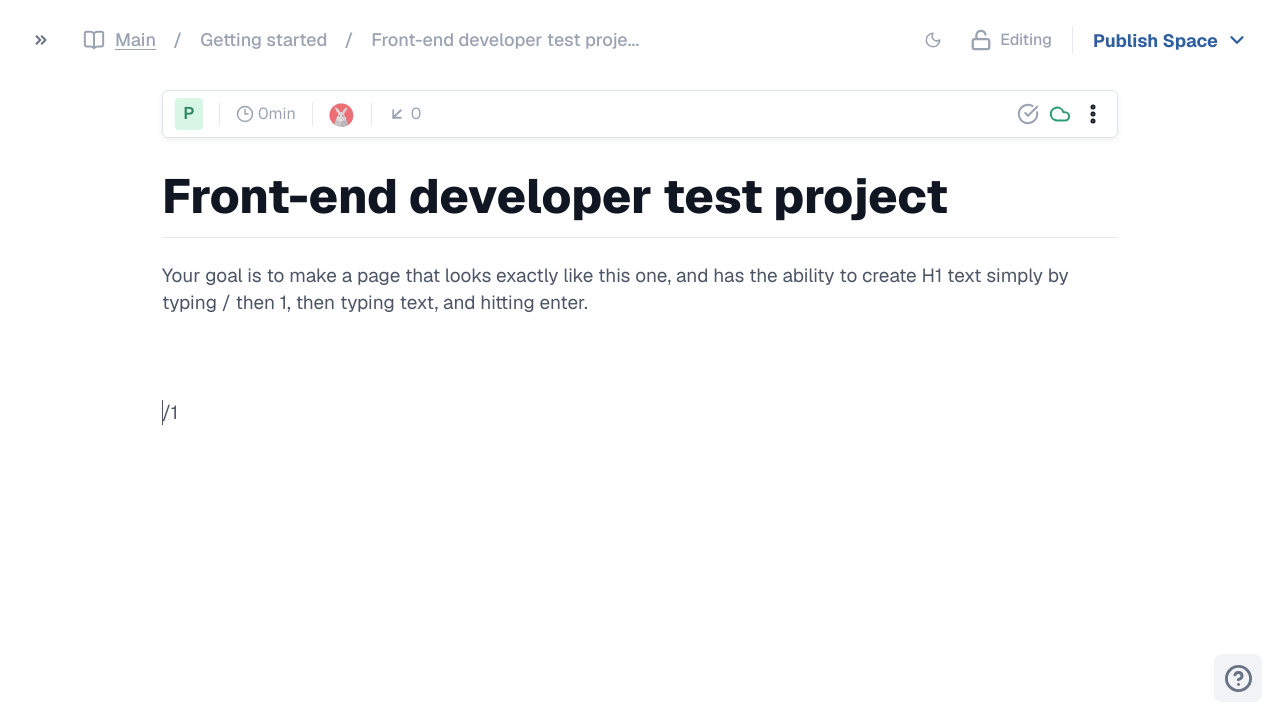
it: editor heading flow › updates editor state when native input replaces text
Step 1. Clear the field named "Paragraph block" → point(170, 412), box [162,400,178,425]
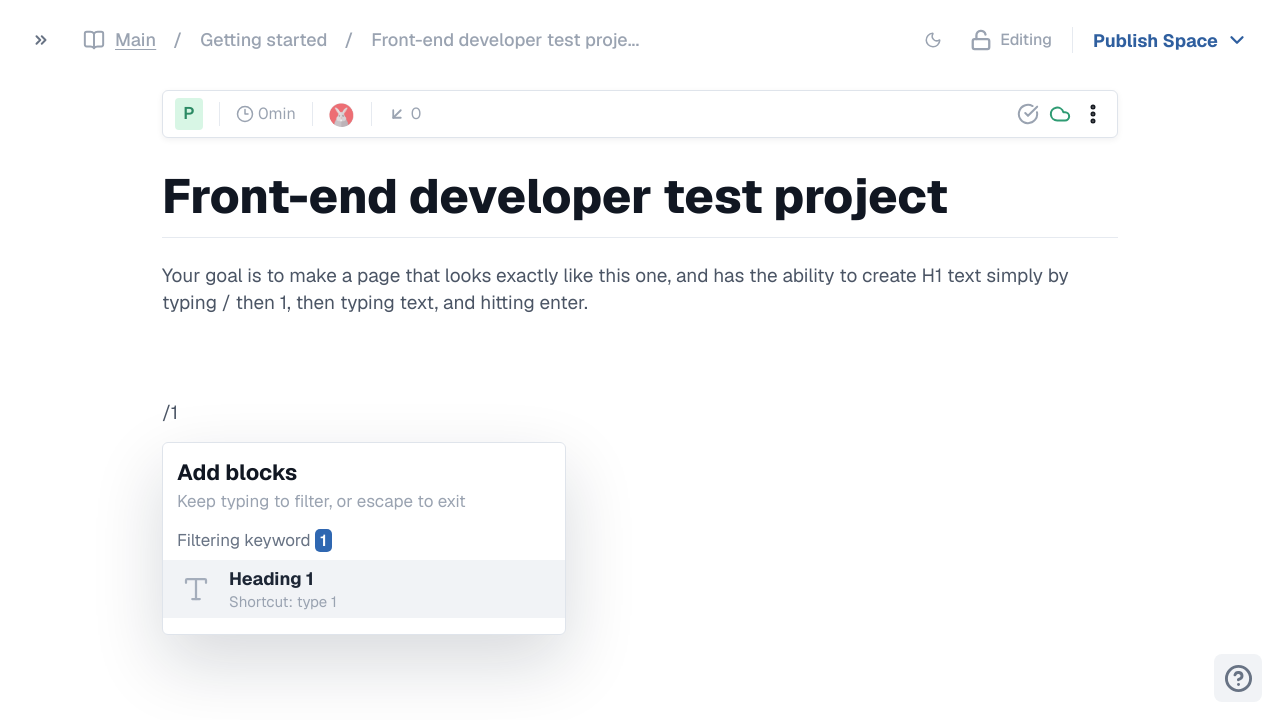
Result: the text "Filtering keyword" is shown at [177,529,315,551]
Result: the text with test id "filter-keyword-highlight" reads "1" at [320,530,327,551]
